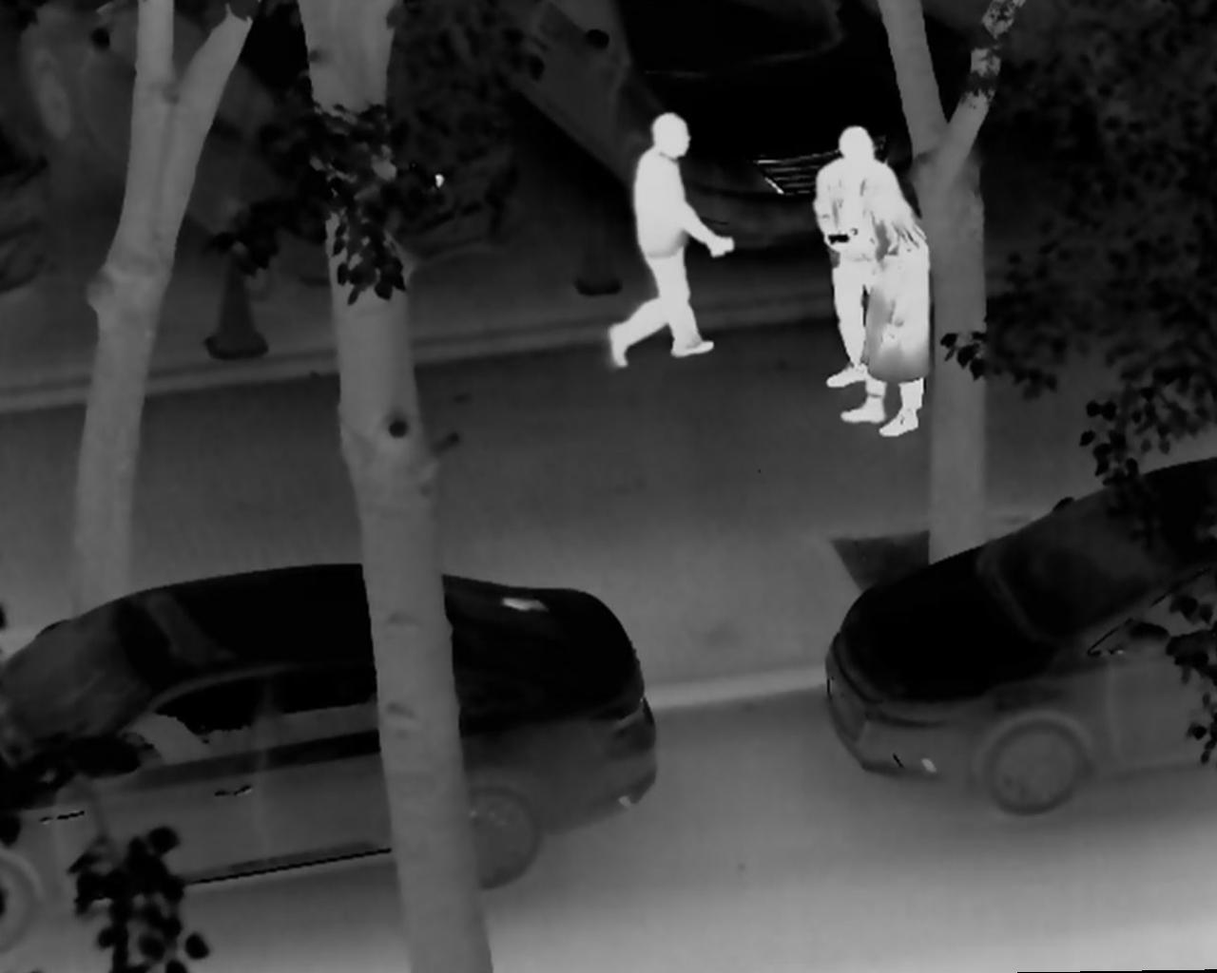person: (606, 108, 734, 375), (836, 164, 939, 442), (812, 121, 905, 391)
